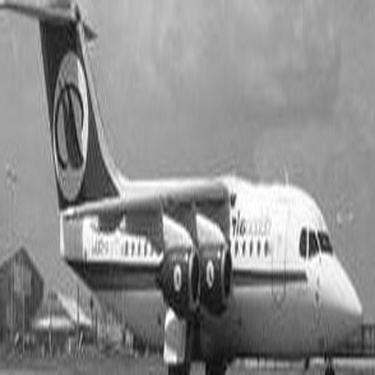airplane: (2, 1, 370, 370)
